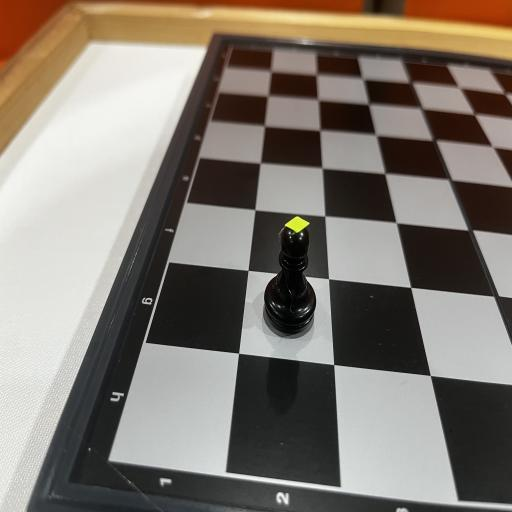Black pawn: (264, 216, 316, 333)
